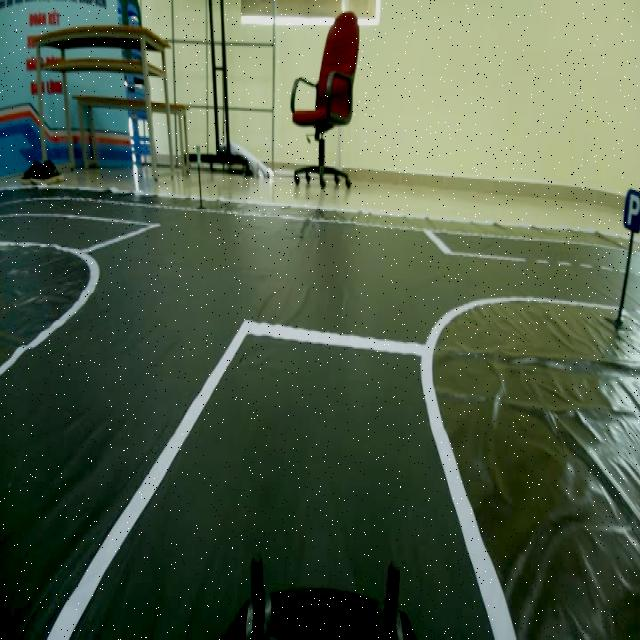parking: (622, 181, 640, 234)
